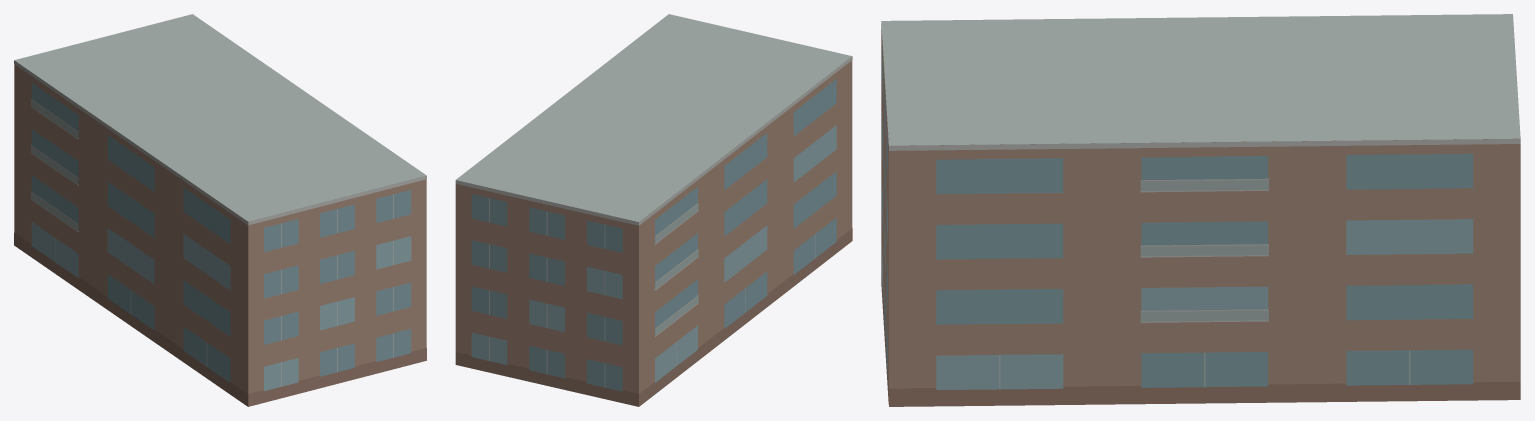
The model's file is residential-b55195a4-bd9c-4f59-b3f1-f2bb1d9e378c.glb.
3 views of the same model, side by side, from view 1: azimuth 30°, elevation 25°; view 2: azimuth 150°, elevation 25°; view 3: azimuth 270°, elevation 25° (orthographic). The views are drawn at different scales.
Parts seen in each view (by area): view 1: residential-b55195a4-bd9c-4f59-b3f1-f2bb1d9e378c.tmp; view 2: residential-b55195a4-bd9c-4f59-b3f1-f2bb1d9e378c.tmp; view 3: residential-b55195a4-bd9c-4f59-b3f1-f2bb1d9e378c.tmp.
Part boxes in pixels (x1,y1,x2,y2): residential-b55195a4-bd9c-4f59-b3f1-f2bb1d9e378c.tmp: [14, 14, 426, 406]; residential-b55195a4-bd9c-4f59-b3f1-f2bb1d9e378c.tmp: [455, 14, 852, 406]; residential-b55195a4-bd9c-4f59-b3f1-f2bb1d9e378c.tmp: [881, 14, 1520, 406].
Bounding box in the file's own units: 13.2 × 12.2 × 27.07.
